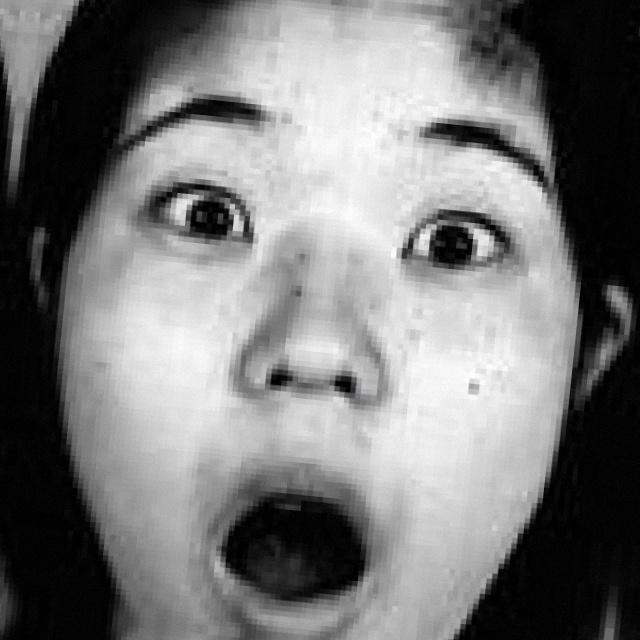surprise: (78, 21, 604, 640)
